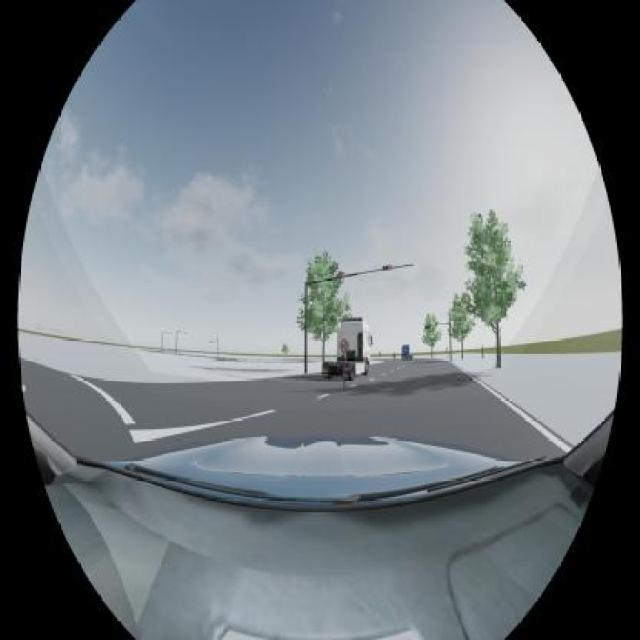forb_speed_over_60: (340, 339, 349, 353)
